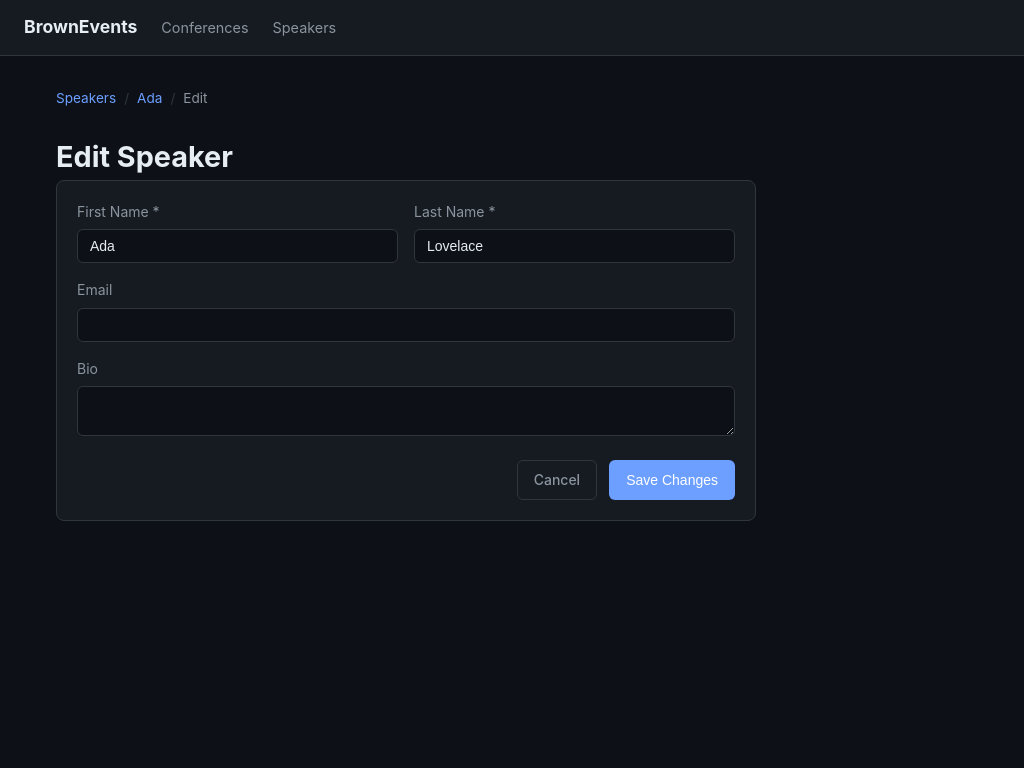
Test case: shows the API error message when the update fails
Expected: the field showing "Ada" is shown, [77, 229, 398, 263]
Click the button "Save Changes". click: {"x": 672, "y": 480}
box: [609, 460, 735, 500]
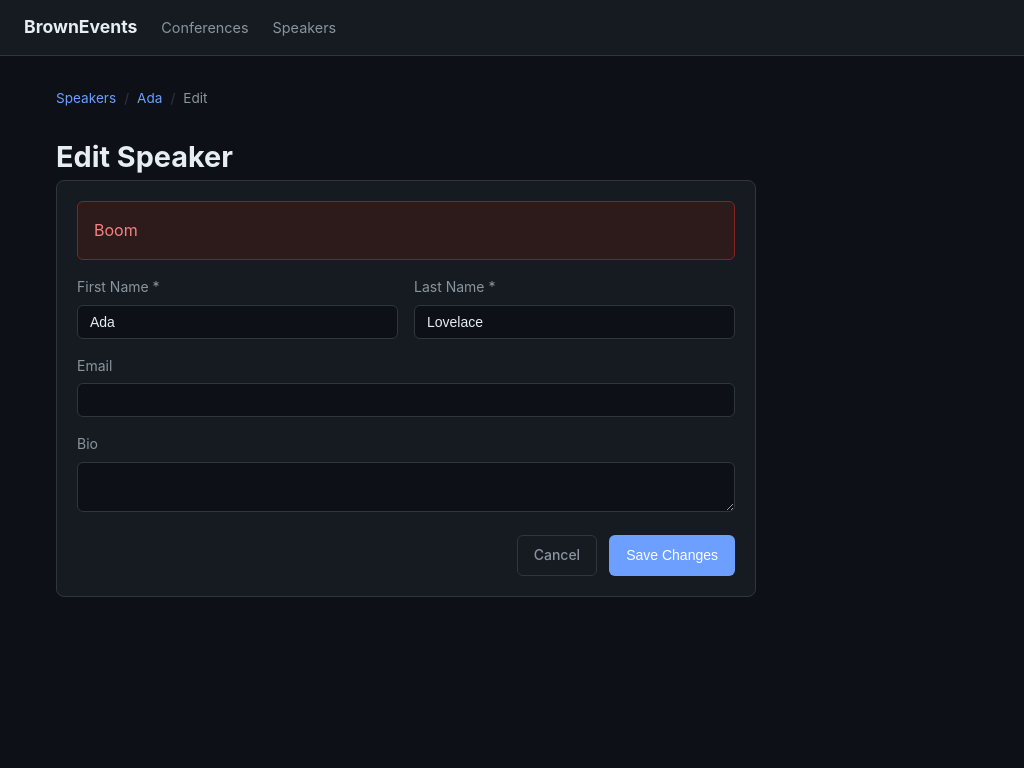
Now the text "Boom" is shown, box [94, 220, 138, 240]
